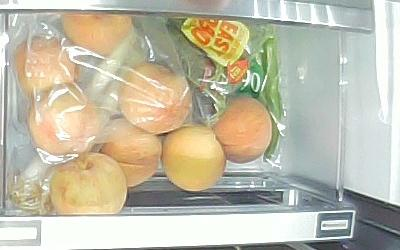peach: (51, 153, 126, 214), (100, 117, 162, 186), (162, 124, 225, 190), (214, 95, 271, 161)
peach_vinyl: (119, 64, 190, 133), (28, 84, 99, 152), (14, 35, 79, 97), (62, 14, 132, 56)
